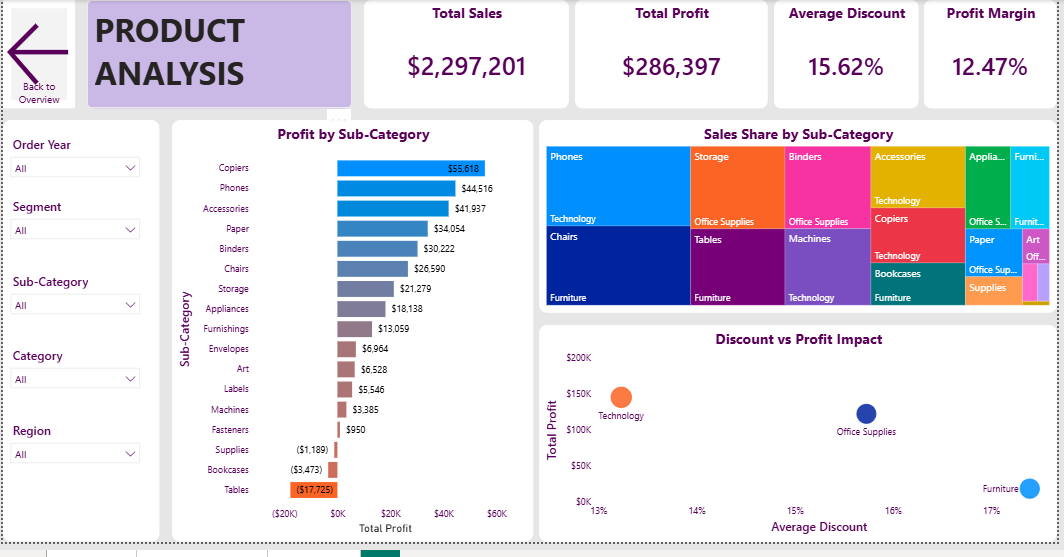

The dashboard page shown, as its layout file describes it:
{"tool":"powerbi","page":{"name":"Product Analysis","canvas":[1400,720],"ordinal":1},"visuals":[{"type":"textbox","box":[112,0,352,144],"z":0},{"type":"shape","box":[0,160,208,560],"z":0,"group":"g1"},{"type":"cardVisual","title":"Total Sales","fields":{"Data":["Sample - Superstore.Total Sales"]},"box":[480,0,272,144],"z":1000},{"type":"slicer","fields":{"Values":["Sample - Superstore.Order Date.Variation.Date Hierarchy.Year"]},"box":[0,176.5,192,65.9],"z":1000,"group":"g1"},{"type":"cardVisual","title":"Average Discount","fields":{"Data":["Sample - Superstore.Average Discont"]},"box":[1024,0,192,144],"z":2000},{"type":"slicer","fields":{"Values":["Sample - Superstore.Segment"]},"box":[0,258.8,192,82.4],"z":2000,"group":"g1"},{"type":"cardVisual","title":"Total Profit","fields":{"Data":["Sample - Superstore.Total Profit"]},"box":[760,0,256,144],"z":3000},{"type":"slicer","fields":{"Values":["Sample - Superstore.Sub-Category"]},"box":[0,357.6,192,82.4],"z":3000,"group":"g1"},{"type":"cardVisual","title":"Profit Margin","fields":{"Data":["Sample - Superstore.Profit Margin"]},"box":[1224,0,176,144],"z":4000},{"type":"slicer","fields":{"Values":["Sample - Superstore.Category"]},"box":[0,456.5,192,82.4],"z":4000,"group":"g1"},{"type":"barChart","title":"Profit by Sub-Category","fields":{"Y":["Sample - Superstore.Total Profit"],"Category":["Sample - Superstore.Sub-Category"]},"box":[224,160,480,560],"z":5000},{"type":"slicer","fields":{"Values":["Sample - Superstore.Region"]},"box":[0,555.3,192,82.4],"z":5000,"group":"g1"},{"type":"treemap","title":"Sales Share by Sub-Category","fields":{"Group":["Sample - Superstore.Sub-Category"],"Values":["Sample - Superstore.Total Sales"],"Details":["Sample - Superstore.Category"]},"box":[712,160,688,256],"z":6000},{"type":"group","id":"g1","title":"Group 1","box":[0,160,208,560],"z":7000},{"type":"actionButton","box":[0,0,96,144],"z":7009},{"type":"scatterChart","title":"Discount vs Profit Impact","fields":{"X":["Sample - Superstore.Average Discont"],"Y":["Sample - Superstore.Total Profit"],"Series":["Sample - Superstore.Category"],"Size":["Sample - Superstore.Total Sales"]},"box":[712,432,688,288],"z":8000}]}

Visuals, with their boxes in screenshot pixels (x1, y1, x2, y2), scaled from the page's 1400x720 canvas onto the 1064x557 screenshot:
textbox: 85 0 353 111
shape: 0 124 158 556
"Total Sales" cardVisual: 365 0 572 111
slicer - Sample - Superstore.Order Date.Variation.Date Hierarchy.Year: 0 137 146 188
"Average Discount" cardVisual: 778 0 924 111
slicer - Sample - Superstore.Segment: 0 200 146 264
"Total Profit" cardVisual: 578 0 772 111
slicer - Sample - Superstore.Sub-Category: 0 277 146 340
"Profit Margin" cardVisual: 930 0 1063 111
slicer - Sample - Superstore.Category: 0 353 146 417
"Profit by Sub-Category" barChart: 170 124 535 556
slicer - Sample - Superstore.Region: 0 430 146 493
"Sales Share by Sub-Category" treemap: 541 124 1063 322
"Group 1" group: 0 124 158 556
actionButton: 0 0 73 111
"Discount vs Profit Impact" scatterChart: 541 334 1063 556
